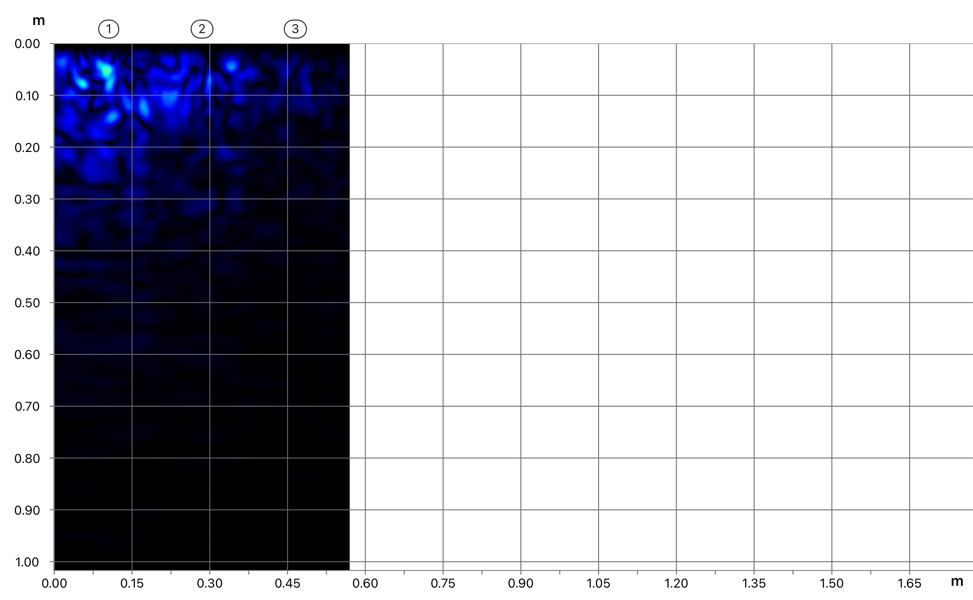crop: (1, 0, 351, 332)
